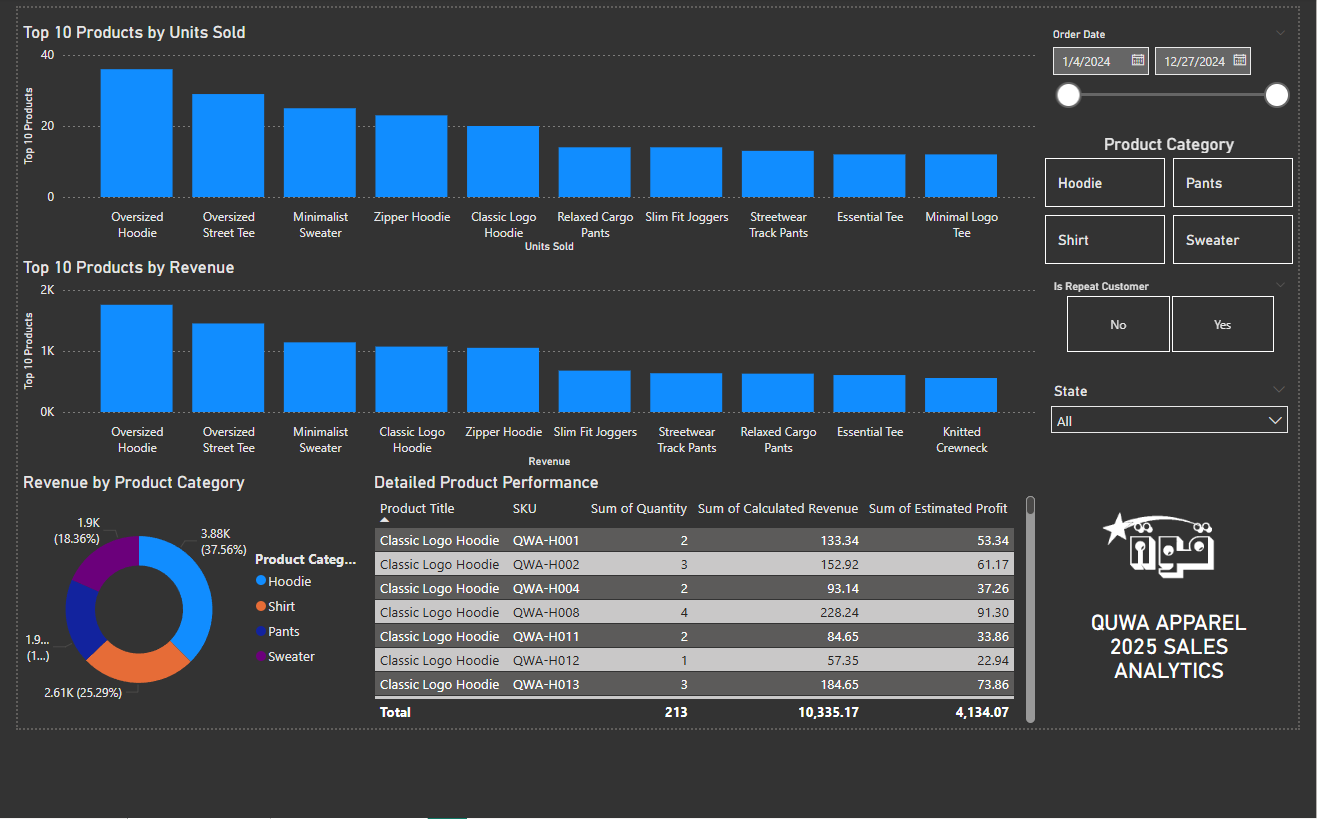

The page's visual inventory and layout, read from the dashboard file:
{"tool":"powerbi","page":{"name":"Product Performance","canvas":[1280,720],"ordinal":1},"visuals":[{"type":"slicer","fields":{"Values":["quwa_sales_data.Order Date"]},"box":[1022.2,0,257.8,126.4],"z":0},{"type":"advancedSlicerVisual","fields":{"Values":["quwa_sales_data.Product Category"]},"box":[1022.2,126.4,257.8,134.2],"z":1000},{"type":"slicer","fields":{"Values":["quwa_sales_data.Is Repeat Customer"]},"box":[1022.5,261.2,257.5,98.8],"z":2000},{"type":"slicer","fields":{"Values":["quwa_sales_data.State"]},"box":[1022.5,360,257.5,103.8],"z":3000},{"type":"image","box":[1057.1,450,167.1,180],"z":4000},{"type":"textbox","box":[1028.6,597.1,244.3,100],"z":5000},{"type":"columnChart","fields":{"Category":["quwa_sales_data.Product Title"],"Y":["Sum(quwa_sales_data.Quantity)"]},"box":[0,14,1022,235],"z":6000},{"type":"columnChart","fields":{"Category":["quwa_sales_data.Product Title"],"Y":["Sum(quwa_sales_data.Calculated Revenue)"]},"box":[0,249,1022,215],"z":7000},{"type":"donutChart","fields":{"Category":["quwa_sales_data.Product Category"],"Y":["Sum(quwa_sales_data.Calculated Revenue)"]},"box":[0,464,351,256],"z":8000},{"type":"tableEx","title":"Detailed Product Performance","fields":{"Values":["quwa_sales_data.Product Title","quwa_sales_data.SKU","Sum(quwa_sales_data.Quantity)","Sum(quwa_sales_data.Calculated Revenue)","Sum(quwa_sales_data.Estimated Profit)"]},"box":[351,464,671,256],"z":9000}]}

Visuals, with their boxes on the page's 1280x720 design canvas (x1, y1, x2, y2). These are canvas units, not pixel positions in the 1317x819 screenshot, which may show the page scaled, cropped or inside an application window:
slicer - quwa_sales_data.Order Date: x1=1022, y1=0, x2=1280, y2=126
advancedSlicerVisual - quwa_sales_data.Product Category: x1=1022, y1=126, x2=1280, y2=261
slicer - quwa_sales_data.Is Repeat Customer: x1=1022, y1=261, x2=1280, y2=360
slicer - quwa_sales_data.State: x1=1022, y1=360, x2=1280, y2=464
image: x1=1057, y1=450, x2=1224, y2=630
textbox: x1=1029, y1=597, x2=1273, y2=697
columnChart - quwa_sales_data.Product Title x Sum(quwa_sales_data.Quantity): x1=0, y1=14, x2=1022, y2=249
columnChart - quwa_sales_data.Product Title x Sum(quwa_sales_data.Calculated Revenue): x1=0, y1=249, x2=1022, y2=464
donutChart - quwa_sales_data.Product Category x Sum(quwa_sales_data.Calculated Revenue): x1=0, y1=464, x2=351, y2=720
"Detailed Product Performance" tableEx: x1=351, y1=464, x2=1022, y2=720
